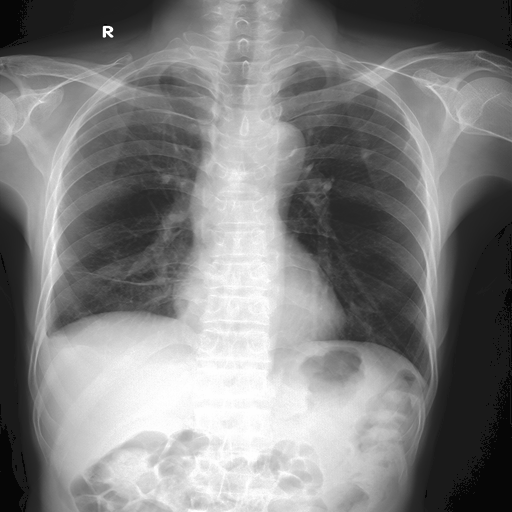Calcification: (39, 330, 58, 341)
ILD: (356, 146, 390, 158)
Pleural effusion: (39, 330, 58, 341)
Pneumothorax: (68, 268, 166, 286), (132, 100, 176, 136), (358, 139, 394, 159)
